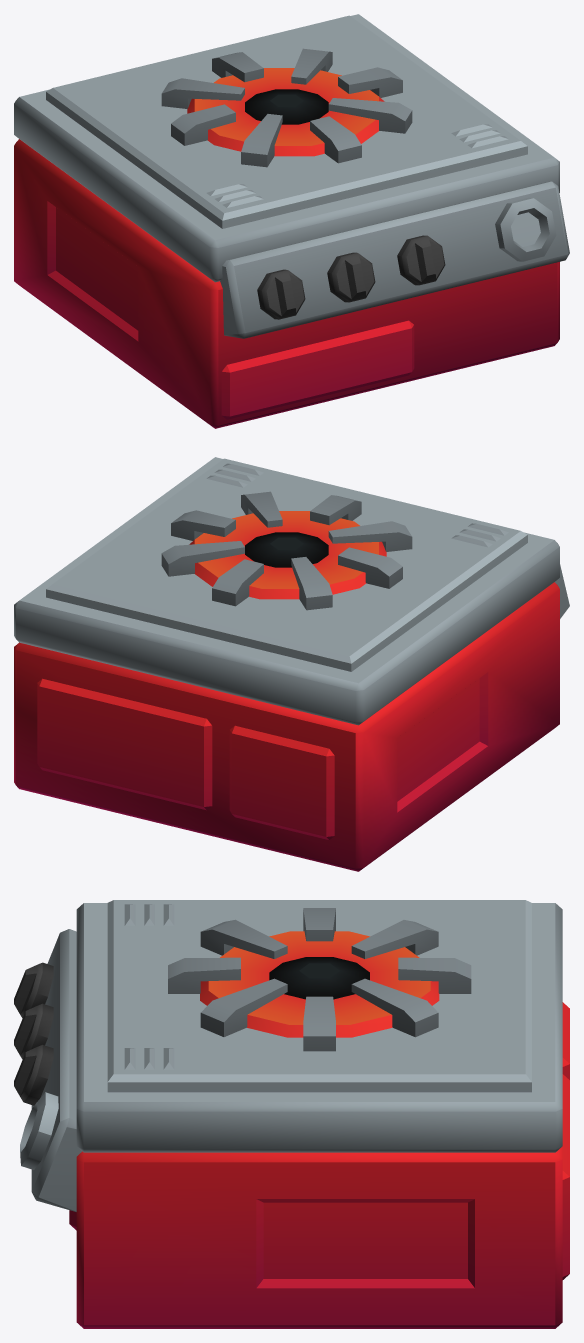
The model's file is stove_single.obj.
3 renders of one model, top to bottom at view 1: azimuth 30°, elevation 25°; view 2: azimuth 150°, elevation 25°; view 3: azimuth 270°, elevation 25°, orthographic. The views are drawn at different scales.
Parts seen in each view (by area): view 1: stove_single_Cube.410; view 2: stove_single_Cube.410; view 3: stove_single_Cube.410.
Boxes of the visible parts, left/top/right/bottom form: stove_single_Cube.410: left=14, top=14, right=569, bottom=428; stove_single_Cube.410: left=14, top=457, right=569, bottom=871; stove_single_Cube.410: left=14, top=900, right=569, bottom=1328.
Bounding box in the file's own units: 2 × 1.21 × 2.29.
1 material, 1 textured.
